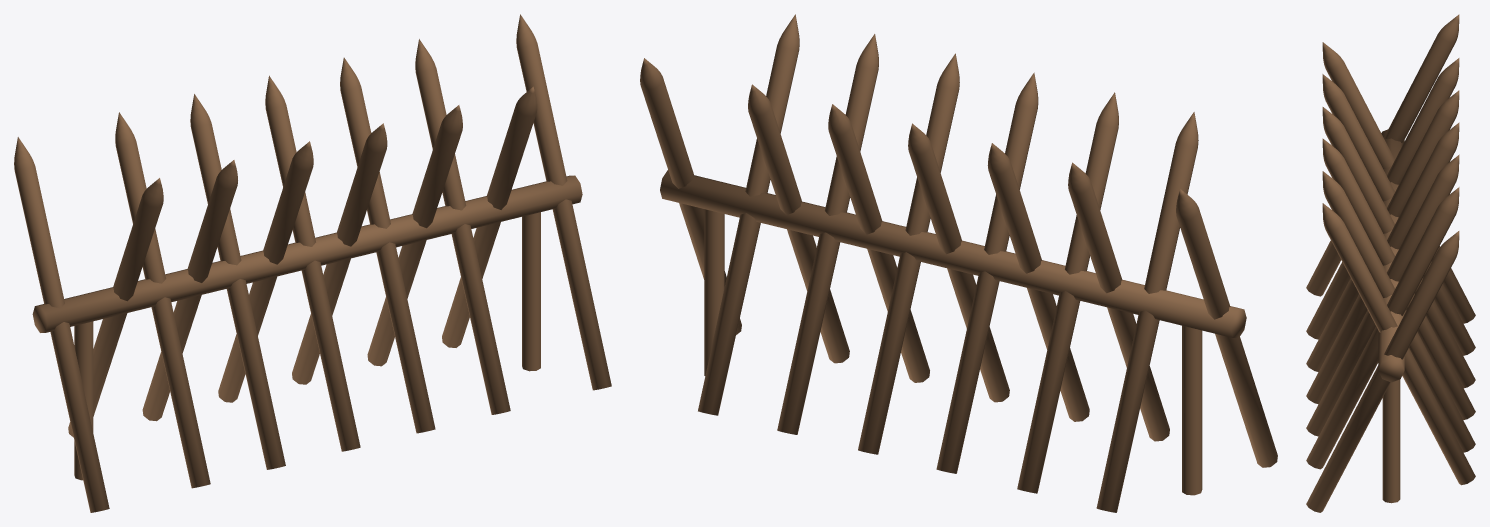
Rendered from Spike_Barrier.fbx.
3 views of the same model, side by side, from view 1: azimuth 30°, elevation 25°; view 2: azimuth 150°, elevation 25°; view 3: azimuth 270°, elevation 25° (orthographic). The views are drawn at different scales.
Visible parts, largest first — view 1: Spike_Barrier; view 2: Spike_Barrier; view 3: Spike_Barrier.
Part boxes in pixels (x1,y1,x2,y2): Spike_Barrier: (14, 14, 611, 512); Spike_Barrier: (640, 14, 1277, 512); Spike_Barrier: (1306, 14, 1475, 512).
Size of the model in its own units: 180 by 102 by 56.04.
